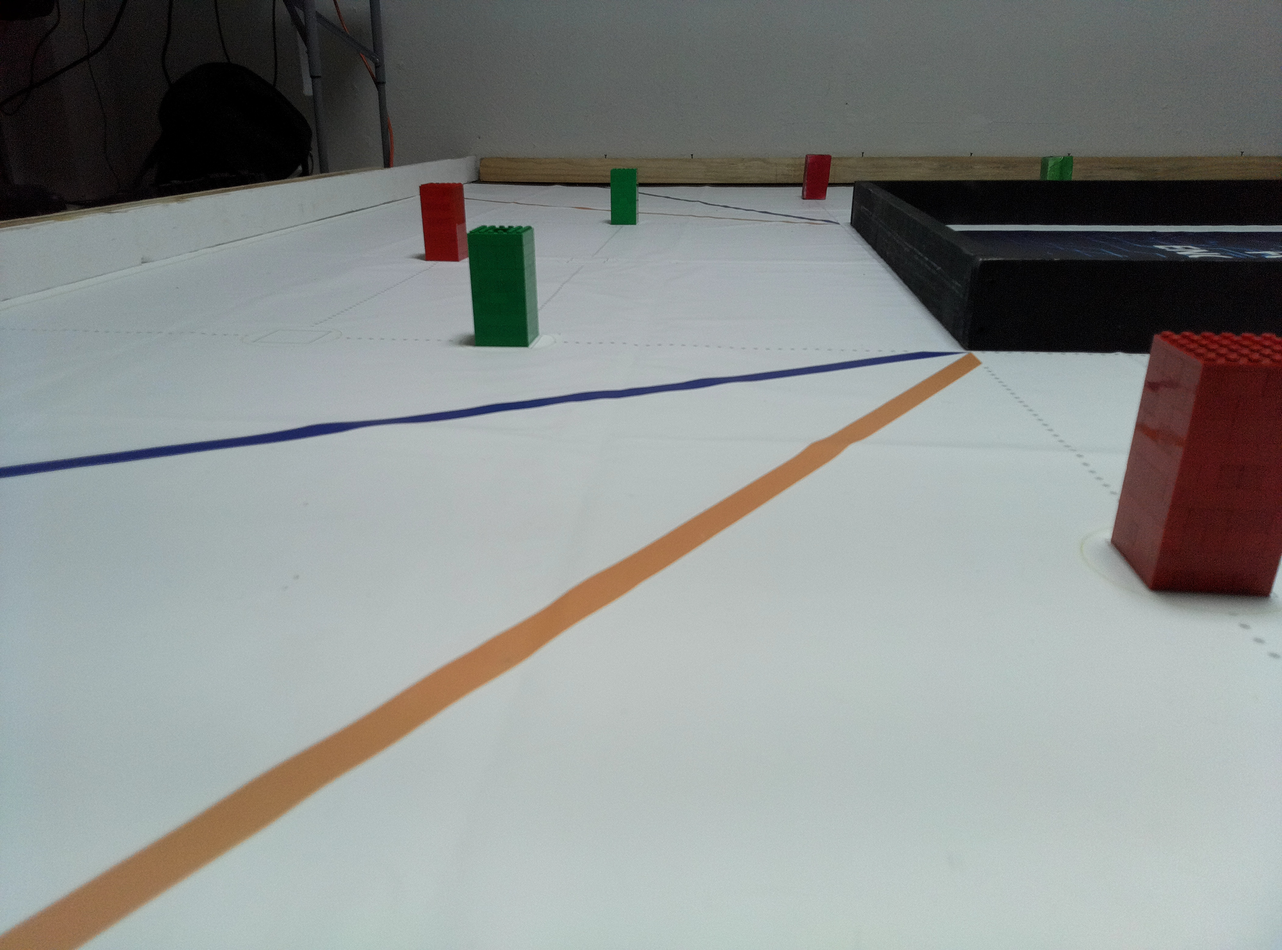greenbox: (466, 225, 540, 349), (610, 167, 640, 225), (1039, 153, 1075, 180)
redbox: (1107, 328, 1281, 597), (418, 181, 468, 262), (801, 153, 833, 201)
